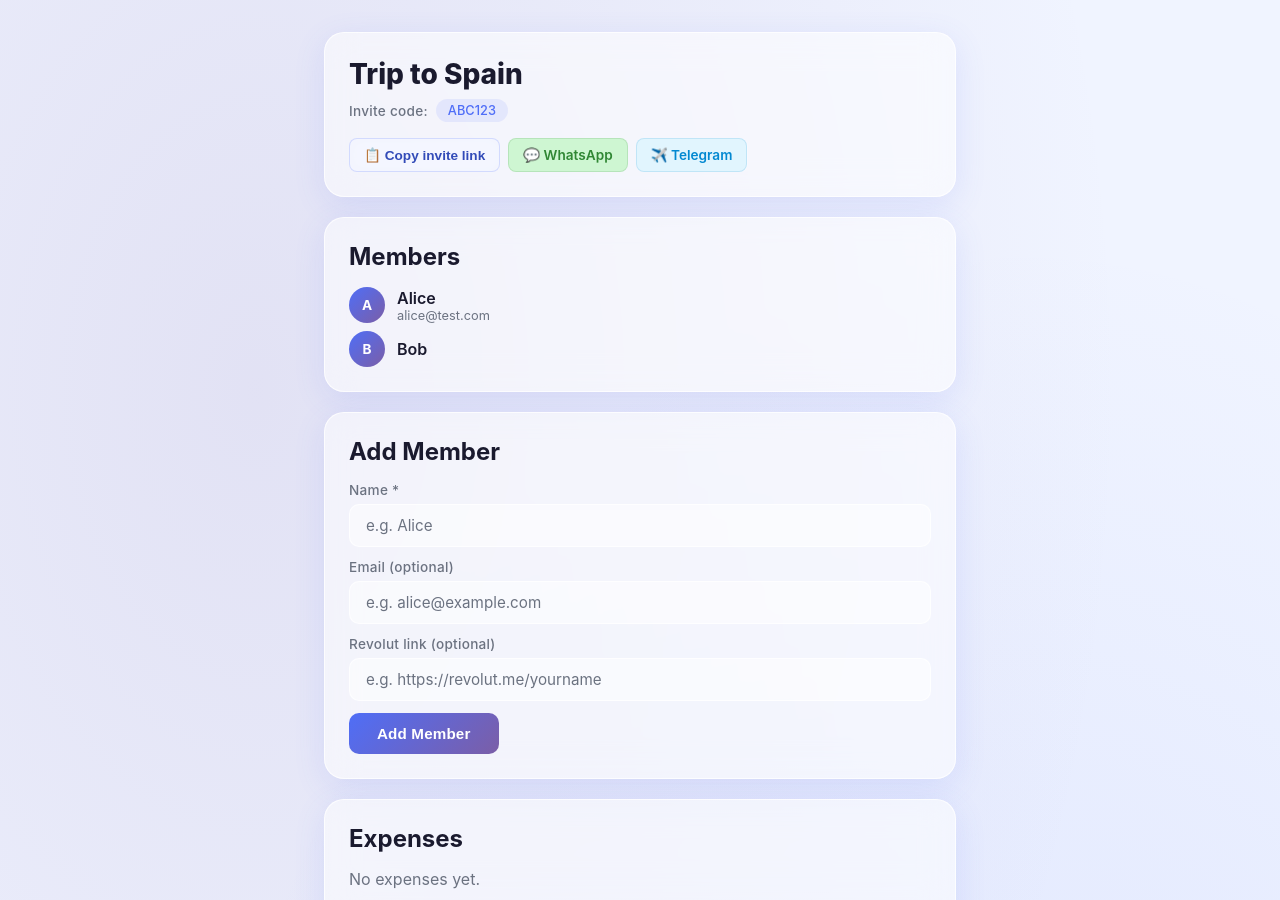
Test: GroupPage — add member › adds a member and clears the form on success
The image size is (1280, 900).
Expected: the heading "Trip to Spain" is shown, [349, 57, 523, 91]
Step 1. Type "Carol" into the field with placeholder "e.g. Alice" → coordinates (640, 526), box [349, 504, 931, 547]
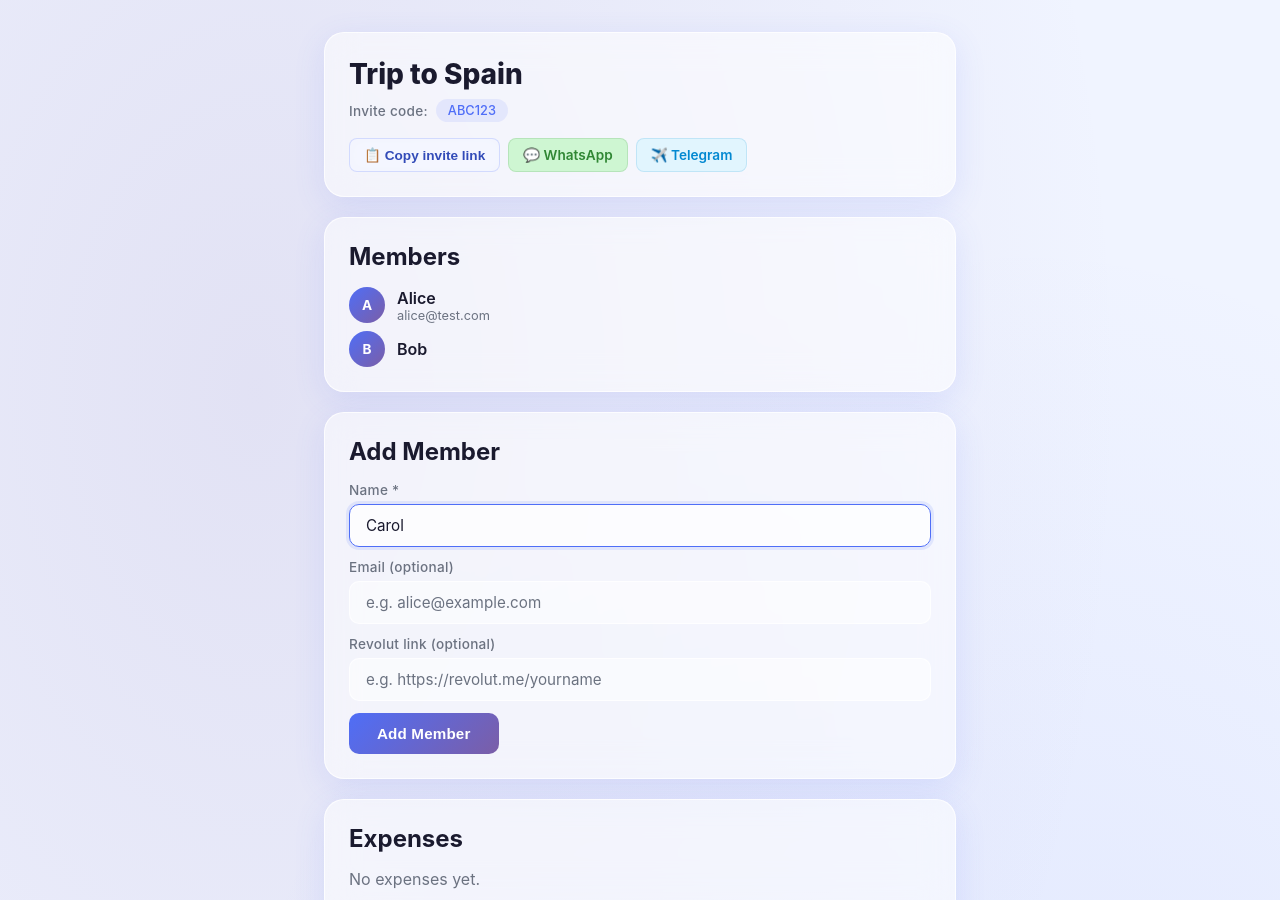
Step 2. Type "carol@test.com" into the field with placeholder "e.g. alice@example.com" → coordinates (640, 602), box [349, 581, 931, 624]
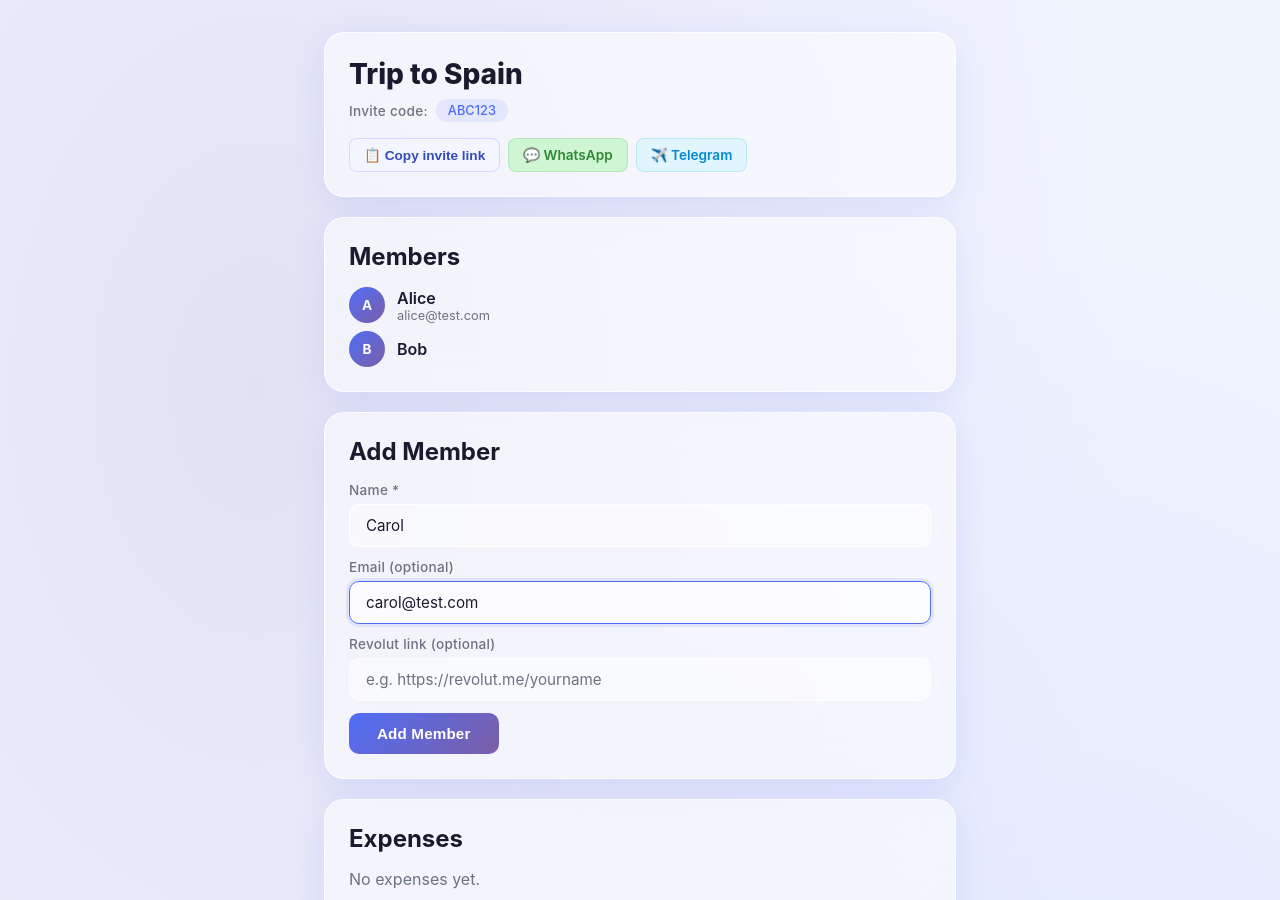
Step 3. Click the button "Add Member" → coordinates (424, 734), box [349, 713, 498, 754]
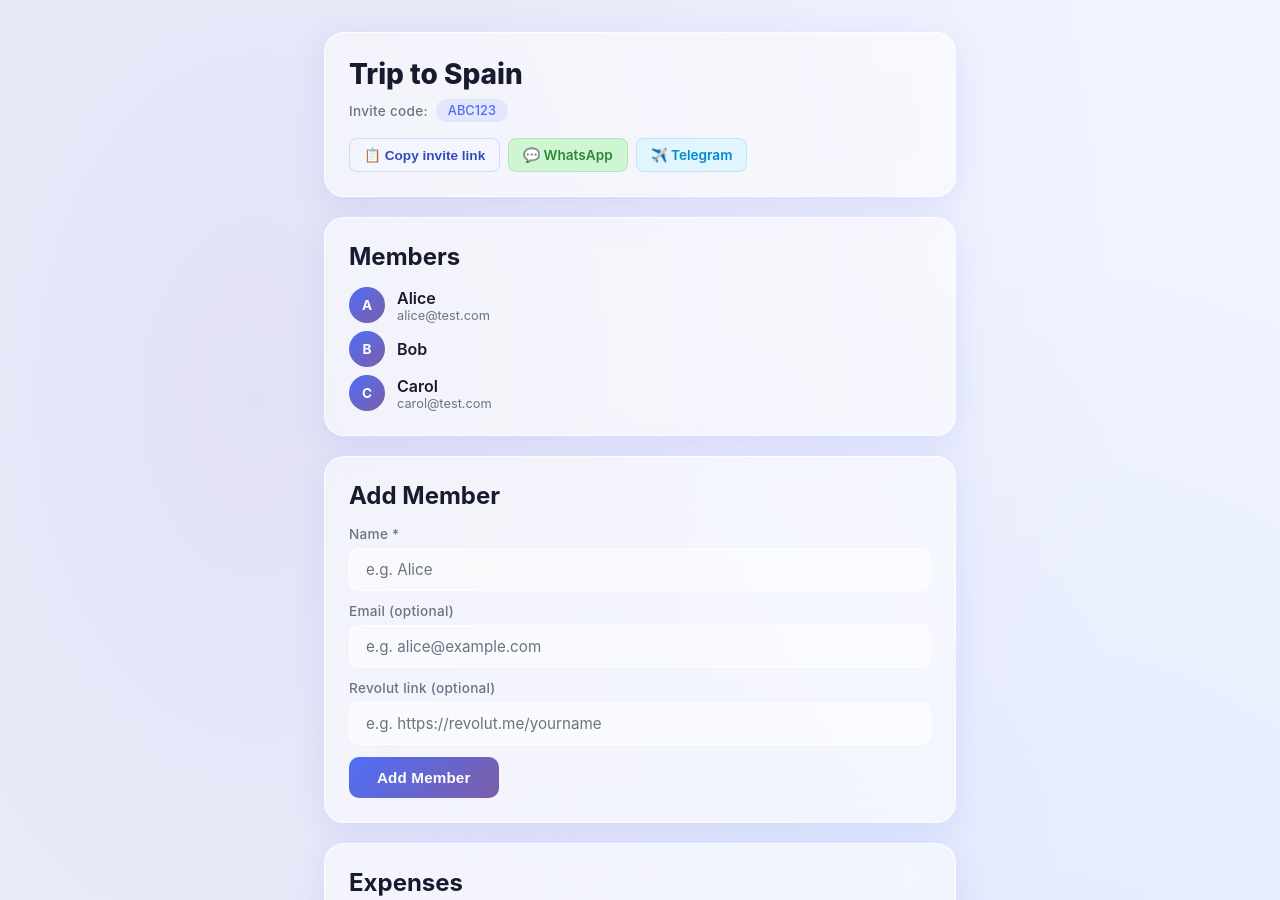
Expected: the text "Carol" is shown, [397, 376, 438, 396]
Expected: the field with placeholder "e.g. Alice" is empty, [349, 548, 931, 591]
